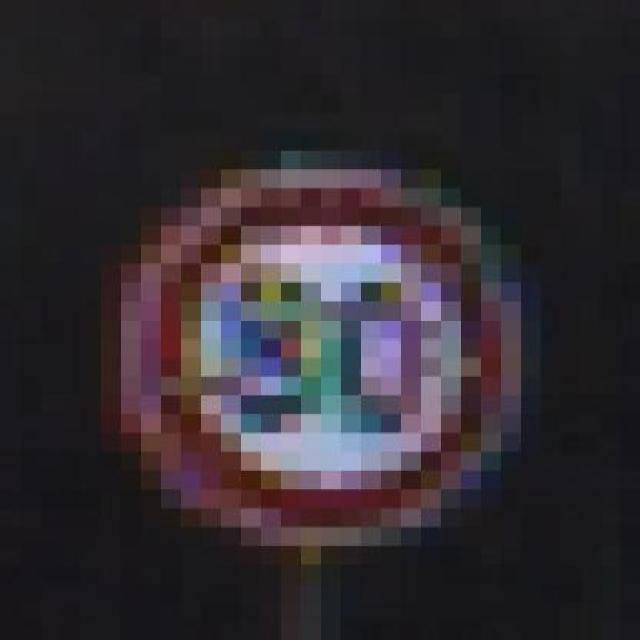forb_speed_over_80: (132, 168, 520, 539)
